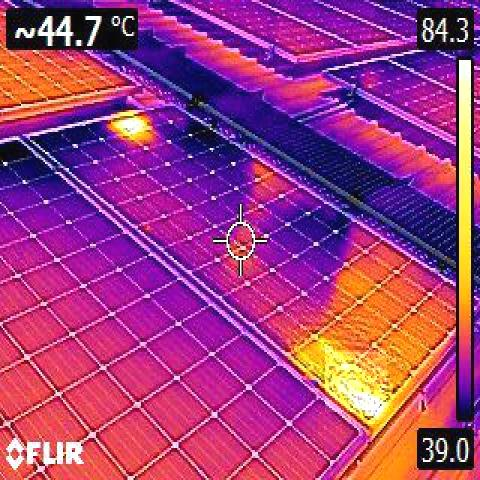fault: (326, 350, 388, 412), (111, 110, 152, 140)
